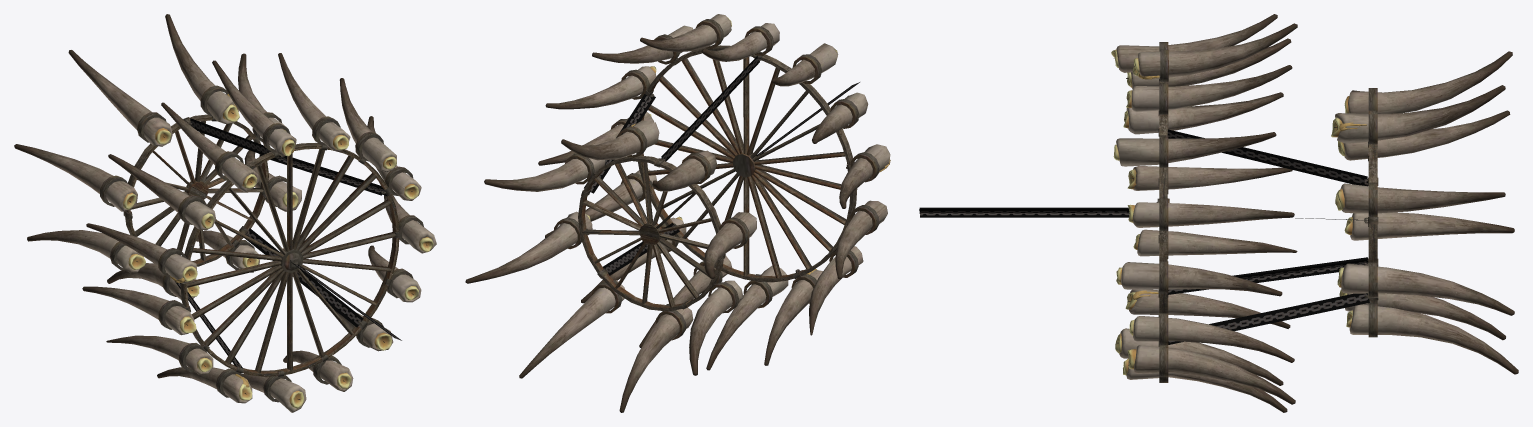
File: VIK_PRO_Chandelier_Large_Horn_02A_LOD0-transformed.glb
The picture shows the model from 3 angles, left to right: view 1: azimuth 30°, elevation 25°; view 2: azimuth 150°, elevation 25°; view 3: azimuth 270°, elevation 25°; orthographic projection. The views are drawn at different scales.
Parts seen in each view (by area): view 1: VIK_PRO_Chandelier_Large_Horn_02A_LOD0; view 2: VIK_PRO_Chandelier_Large_Horn_02A_LOD0; view 3: VIK_PRO_Chandelier_Large_Horn_02A_LOD0.
Boxes of the visible parts, x1,y1,x2,y2 form: VIK_PRO_Chandelier_Large_Horn_02A_LOD0: (14, 14, 436, 412); VIK_PRO_Chandelier_Large_Horn_02A_LOD0: (465, 14, 890, 412); VIK_PRO_Chandelier_Large_Horn_02A_LOD0: (919, 14, 1518, 412).
Size of the model in its own units: 0.0187 by 0.0189 by 0.0284.
5 materials, 5 textured.
